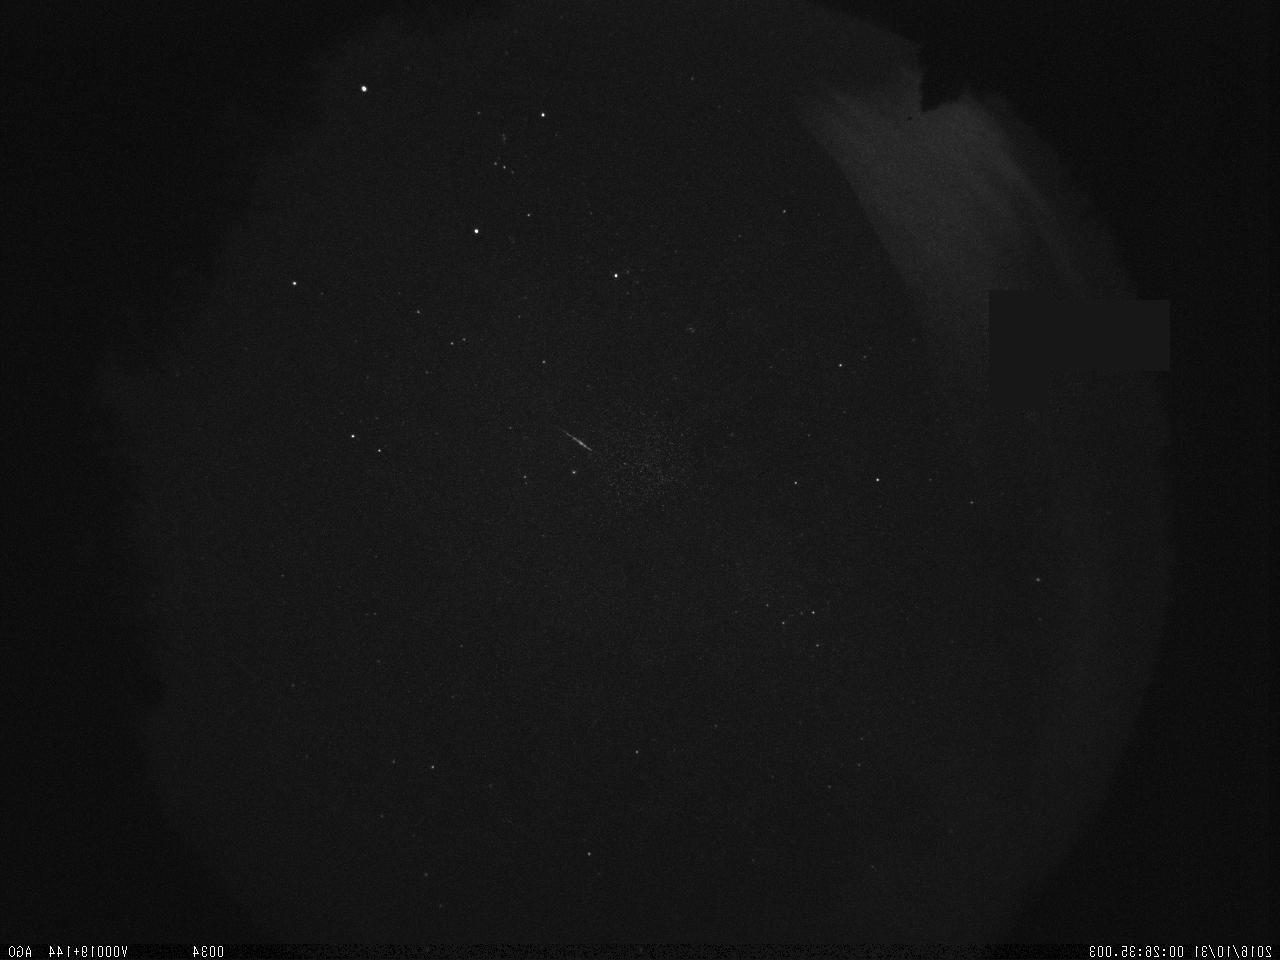meteor: (532, 412, 604, 477)
